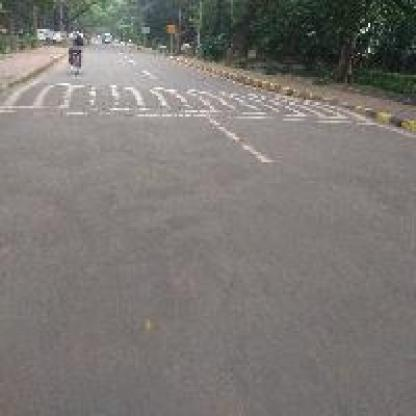Speed Bump: (4, 81, 364, 123)
